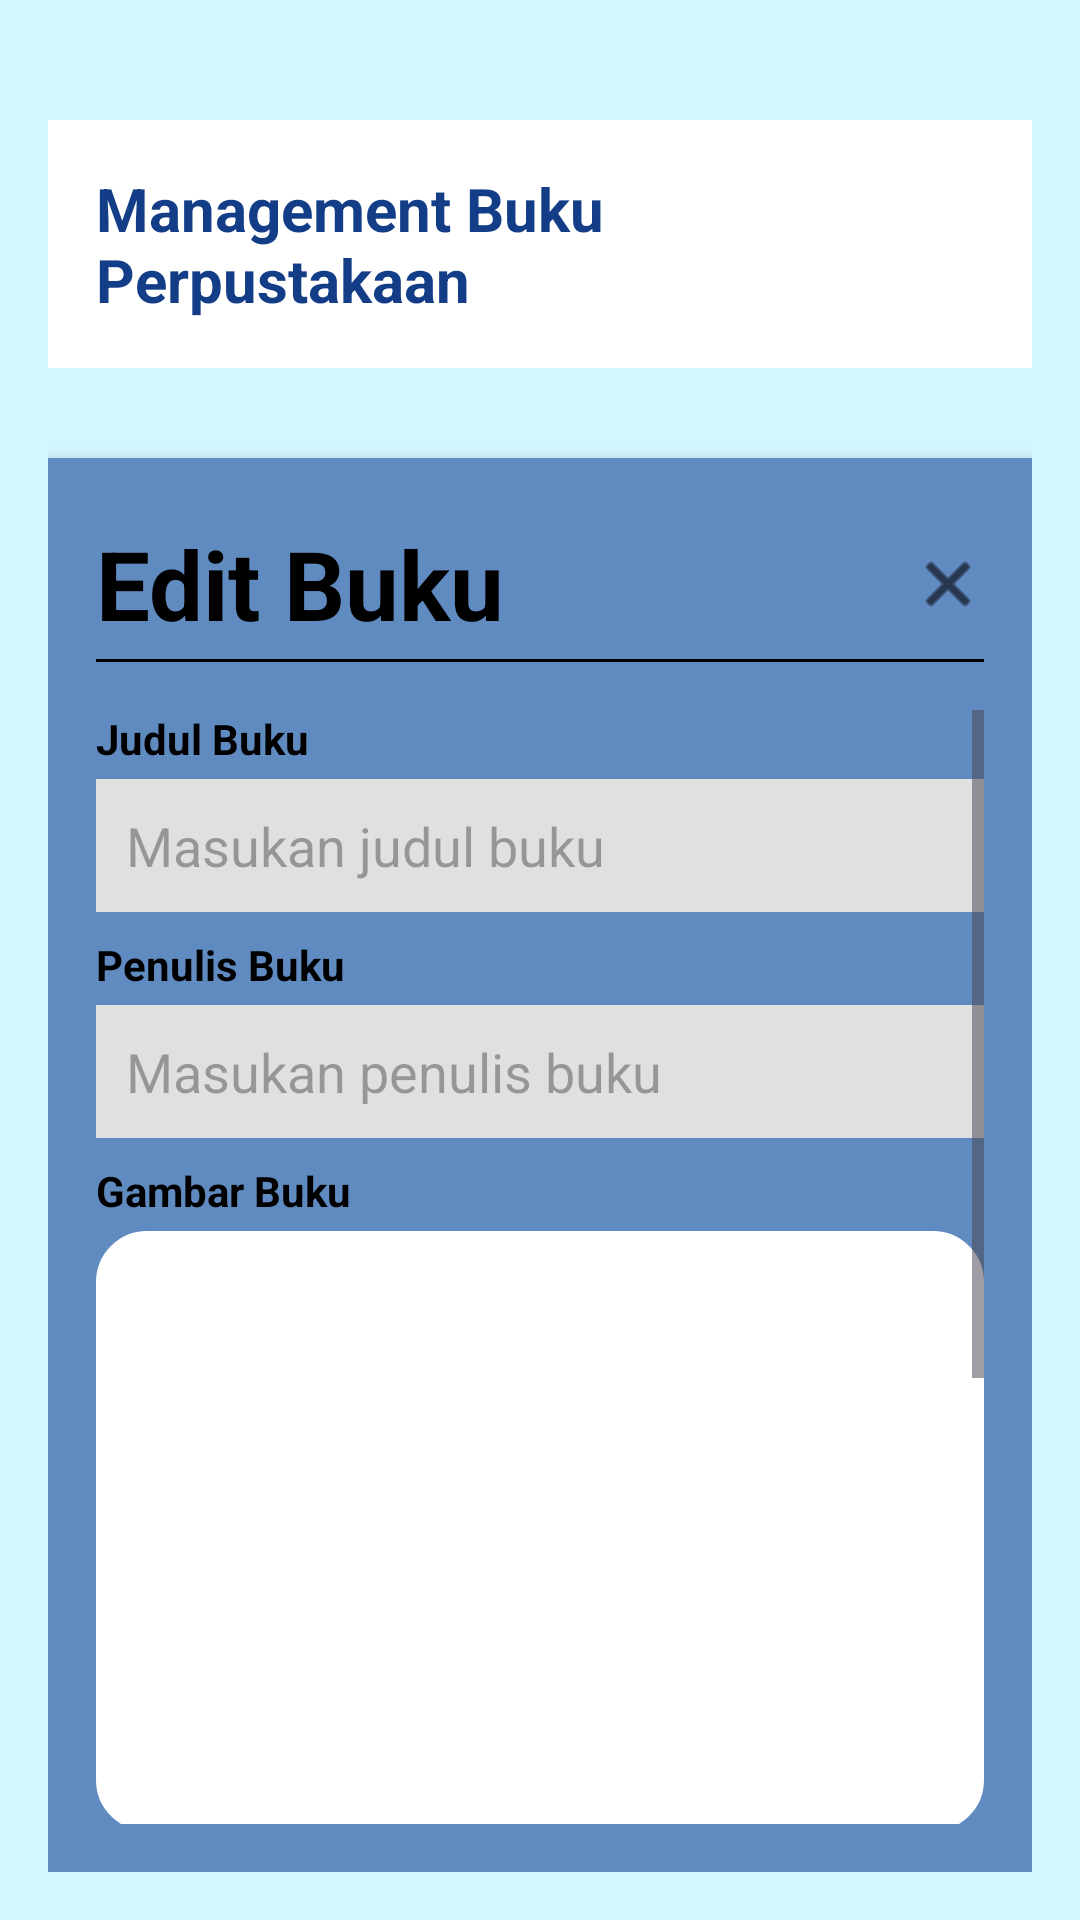

Icon click points for this 1080 × 1920 phone screenshot, format [x,y]:
Close: [948,584]
